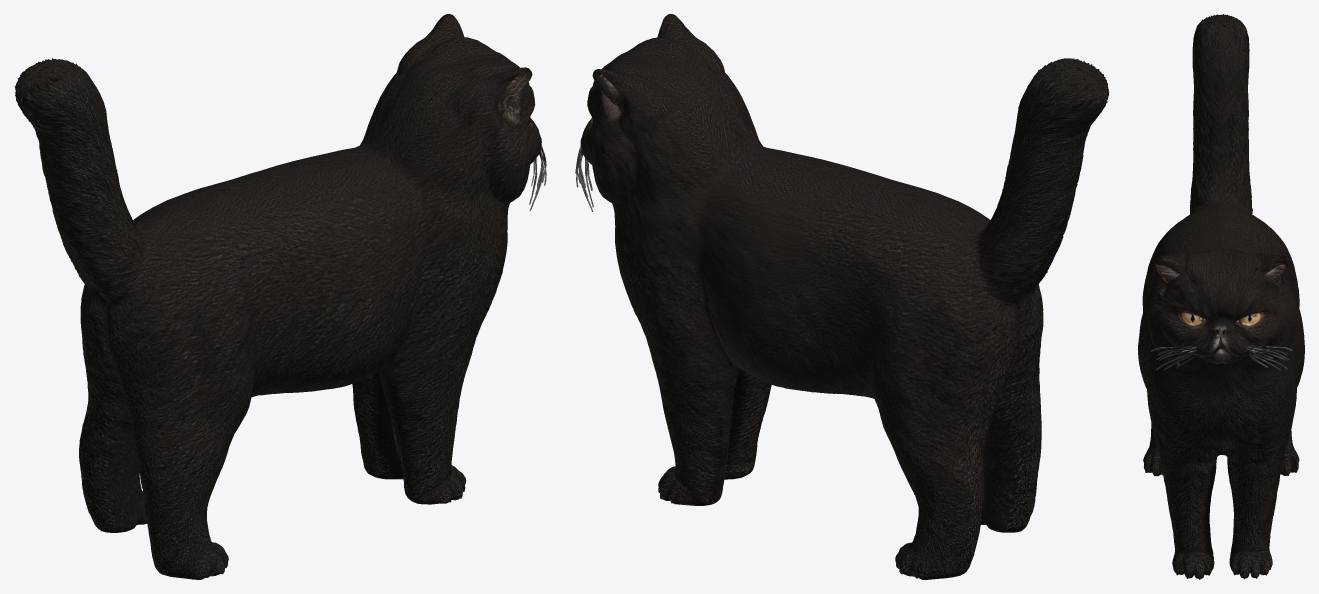
File: TORAHIKO.glb
3 views of the same model, side by side, from view 1: azimuth 30°, elevation 25°; view 2: azimuth 150°, elevation 25°; view 3: azimuth 270°, elevation 25° (orthographic). The views are drawn at different scales.
Parts seen in each view (by area): view 1: tripo_node_3a1b5c40-e727-43eb-9062-32d068b451fd; view 2: tripo_node_3a1b5c40-e727-43eb-9062-32d068b451fd; view 3: tripo_node_3a1b5c40-e727-43eb-9062-32d068b451fd.
Part boxes in pixels (x1,y1,x2,y2): tripo_node_3a1b5c40-e727-43eb-9062-32d068b451fd: [14, 14, 546, 579]; tripo_node_3a1b5c40-e727-43eb-9062-32d068b451fd: [575, 14, 1109, 579]; tripo_node_3a1b5c40-e727-43eb-9062-32d068b451fd: [1138, 14, 1304, 579].
Size of the model in its own units: 1.05 by 0.9997 by 0.3698.
1 material, 1 textured.
